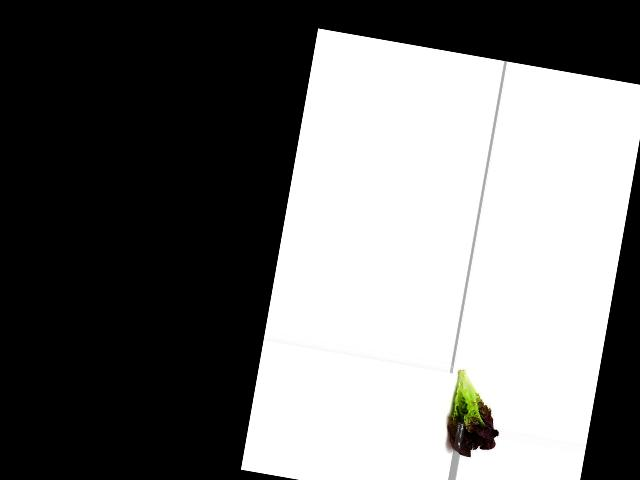lettuce: (438, 364, 509, 463)
